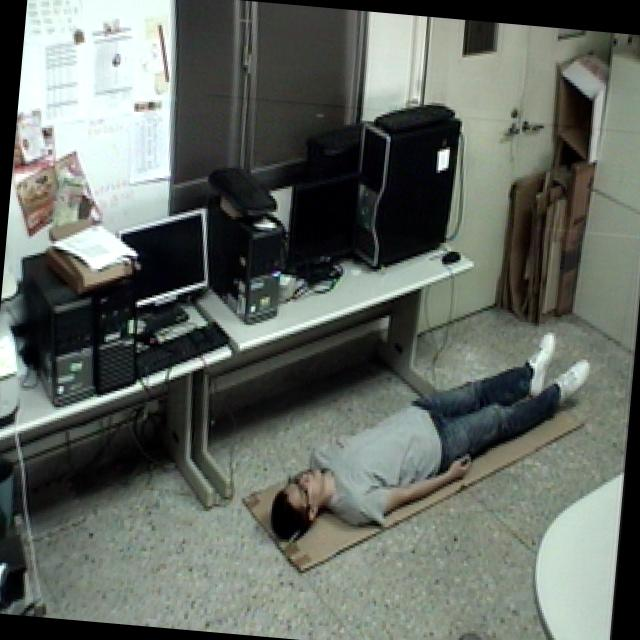lie: (256, 282, 604, 572)
